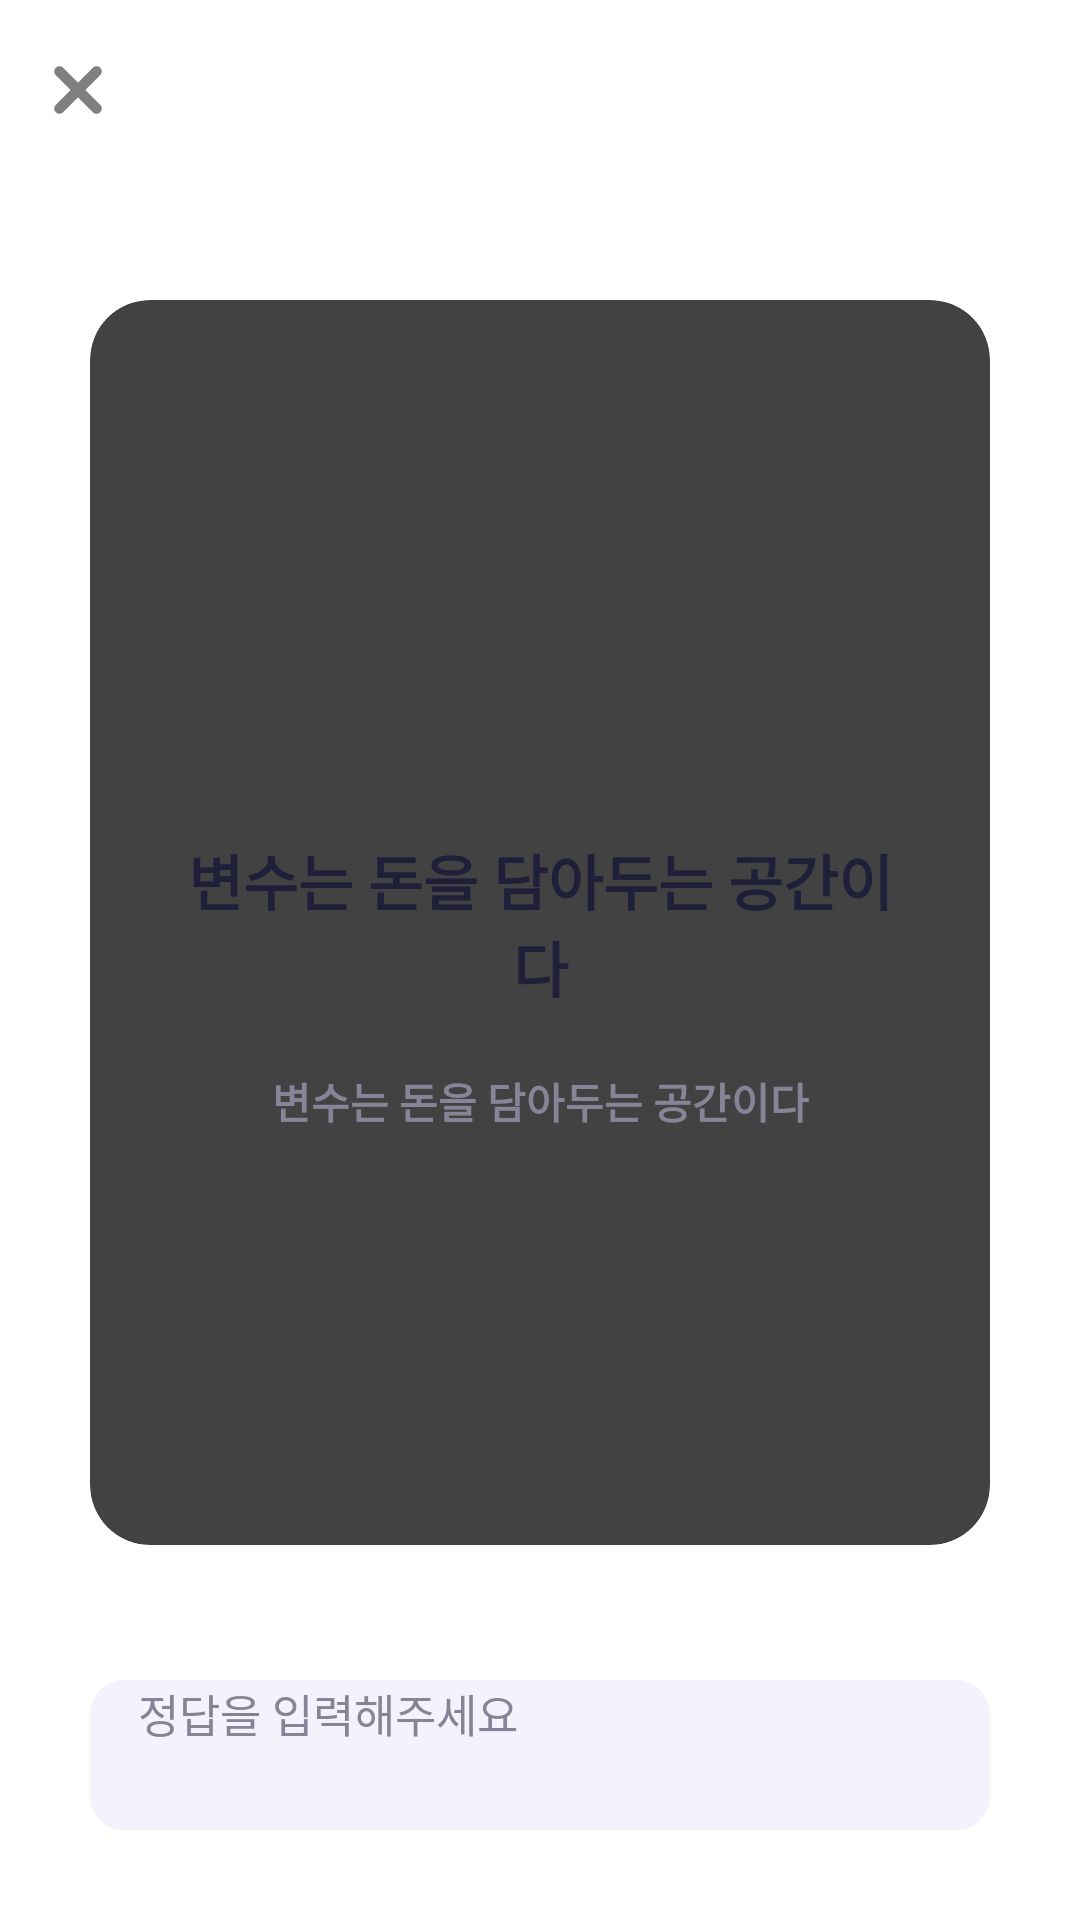

Icons on this 1080 × 1920 Android screen, each with its box as (x1=x1, y1=y1, x2=x2, y2=y2):
close: (x1=54, y1=66, x2=102, y2=114)
